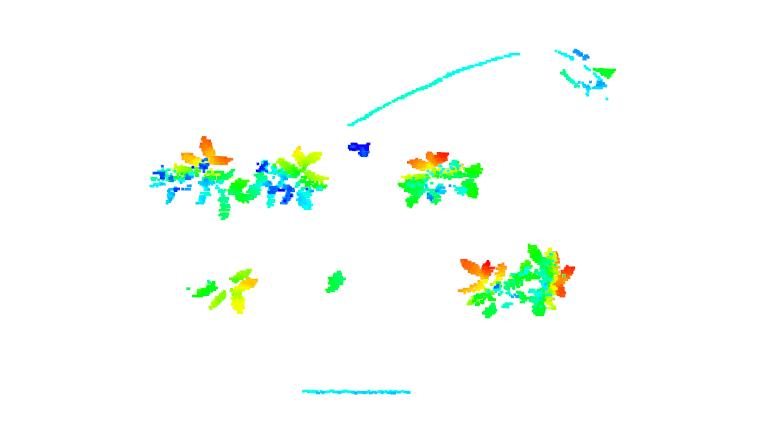chickpea: (151, 134, 253, 220), (246, 145, 332, 212), (396, 150, 484, 208), (512, 242, 578, 317), (456, 256, 517, 319), (188, 267, 259, 314), (321, 268, 349, 298)
